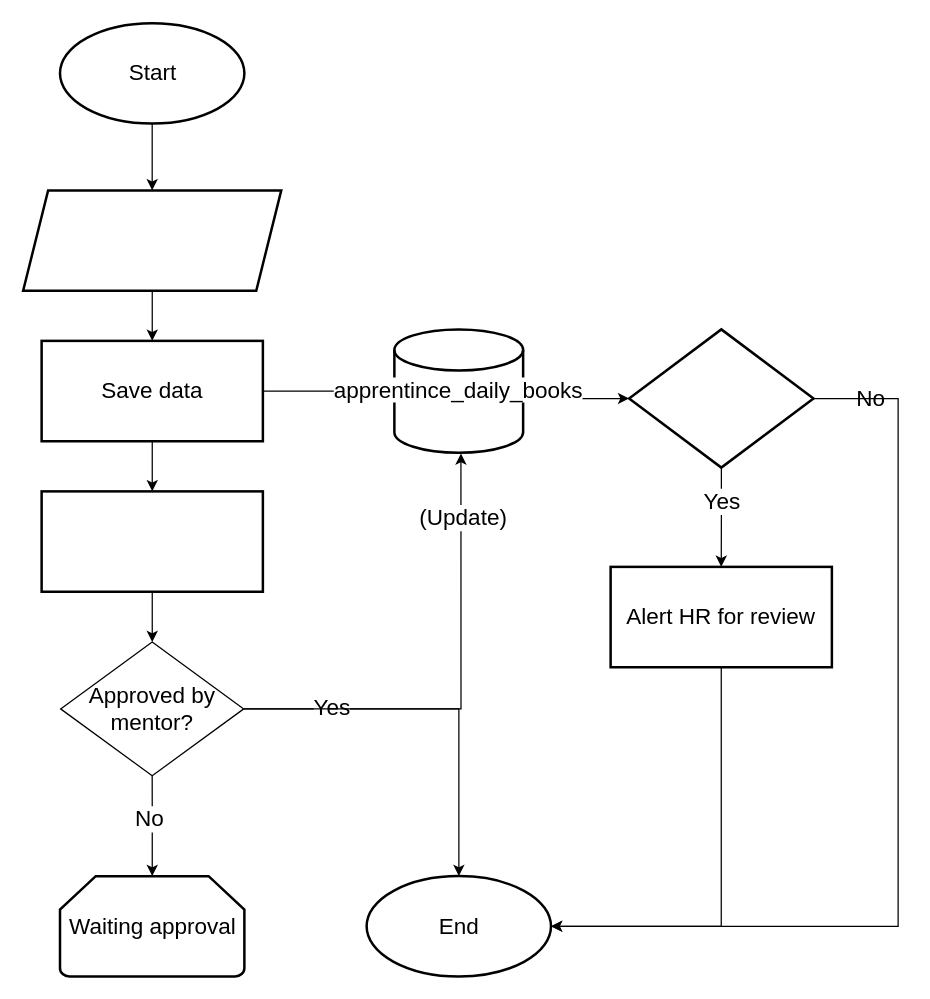
Some shapes in this 930 by 999 pixel diagram are drawn without their labels. The shapes that lost their labels are listed below. From the top down, each one's centre as x and y in pixels, then its label:
the point at 151,239: Apprentince input daily book
the point at 720,398: 10 books? (2 weeks)
the point at 152,541: Alert mentor for approval
